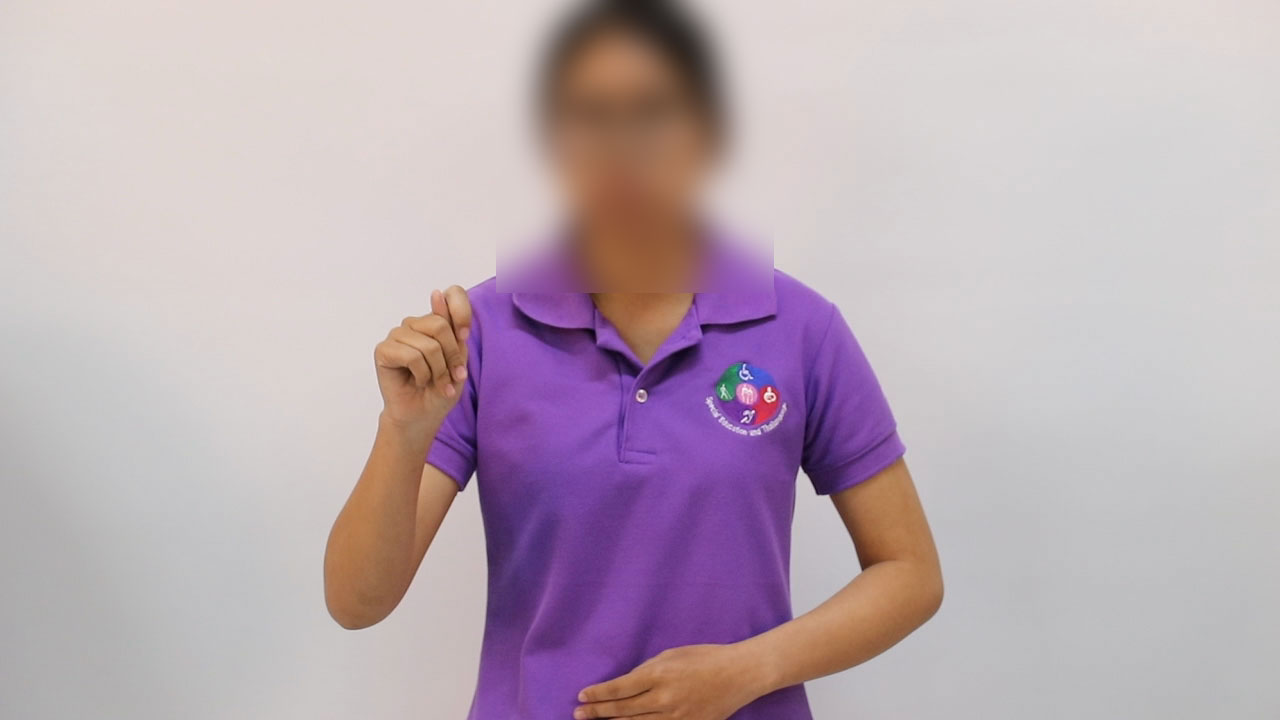tor: (341, 277, 508, 459)
